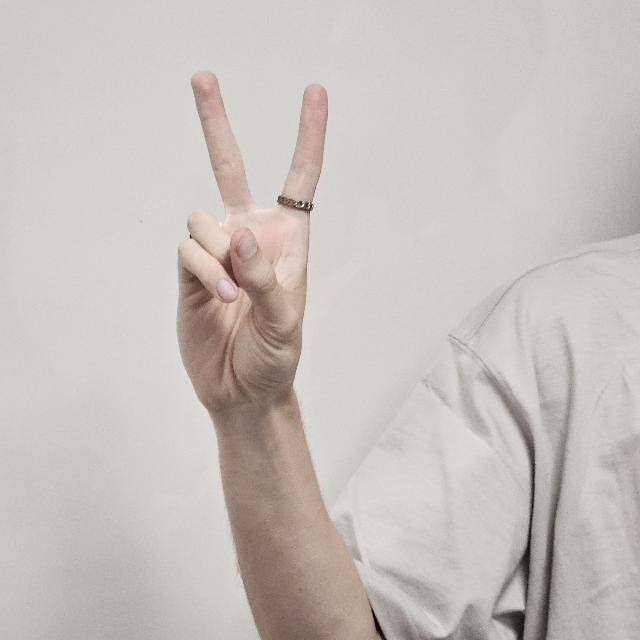Triangulo: (167, 73, 315, 413)
